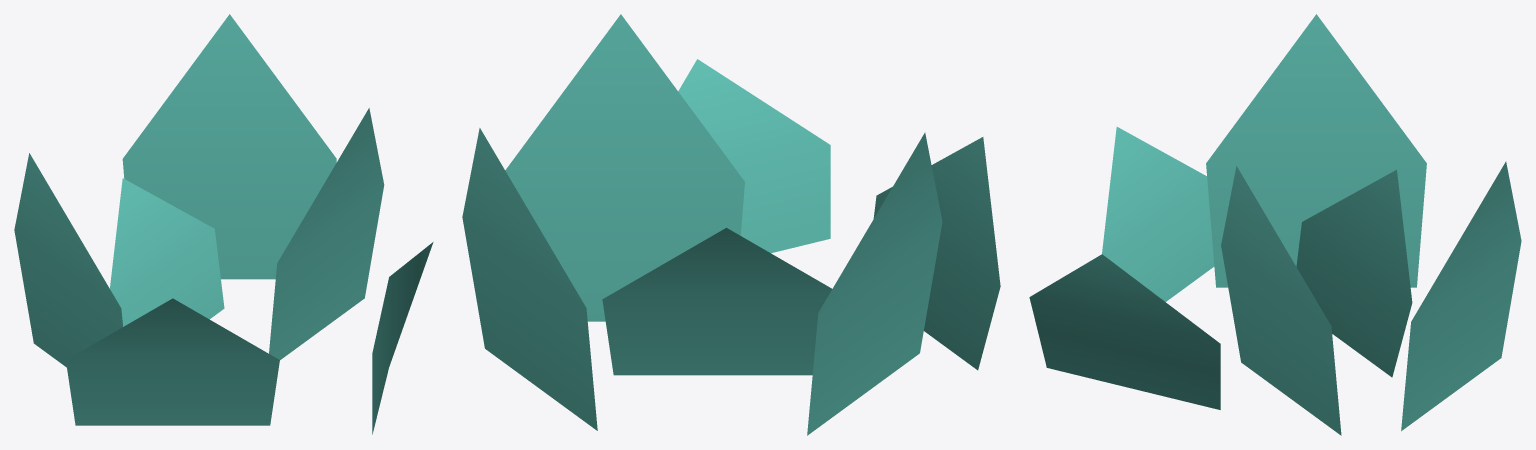
File: grass_leafs.glb
3 views of the same model, side by side, from view 1: azimuth 30°, elevation 25°; view 2: azimuth 150°, elevation 25°; view 3: azimuth 270°, elevation 25° (orthographic). The views are drawn at different scales.
Visible parts, largest first — view 1: grass_leafs; view 2: grass_leafs; view 3: grass_leafs.
Boxes of the visible parts, x1=… form: grass_leafs: x1=14, y1=14, x2=433, y2=434; grass_leafs: x1=462, y1=14, x2=1000, y2=435; grass_leafs: x1=1029, y1=14, x2=1521, y2=435.
Bounding box in the file's own units: 0.2345 × 0.1425 × 0.2573.
